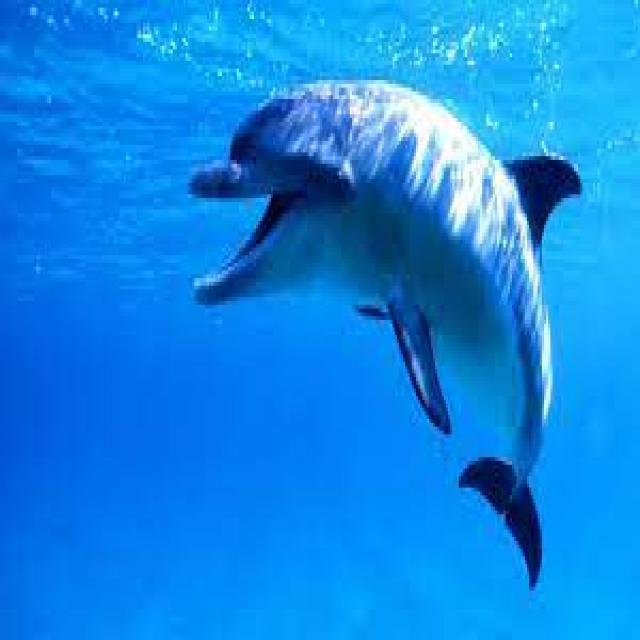dolphin: (190, 76, 584, 617)
